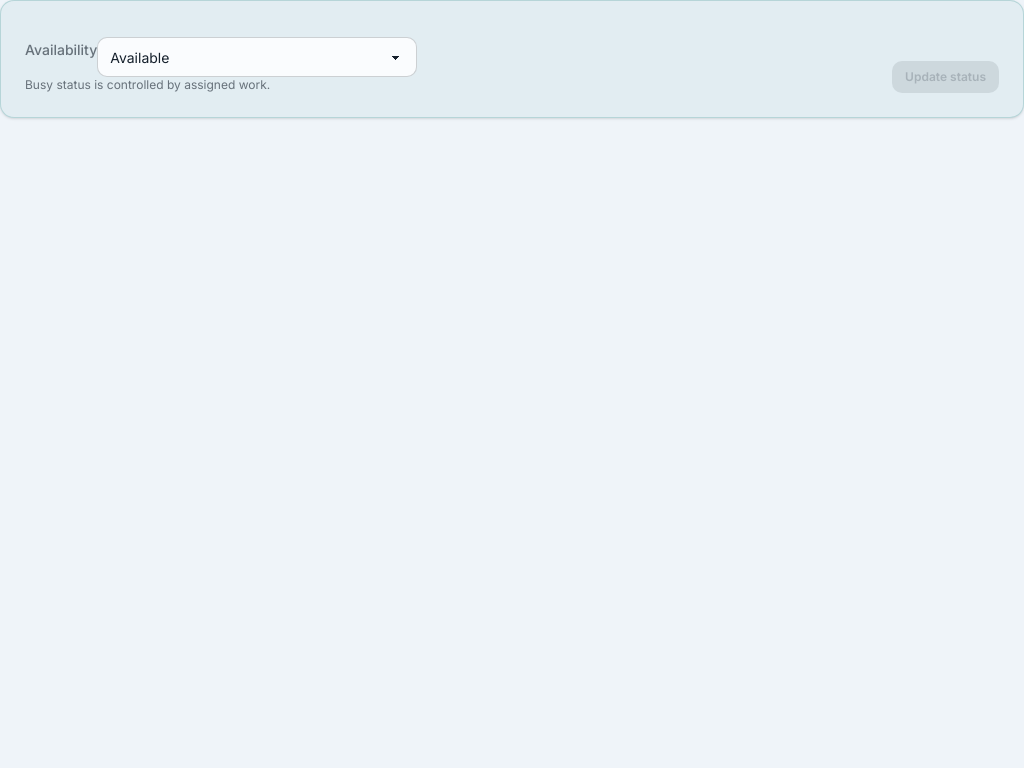
fleet pages › asks before forcing offline when a driver still has active shipments
Later steps or results of the test are not shown.
Select "Offline" in the dropdown labelled "Availability": [257, 57] box [97, 37, 417, 77]
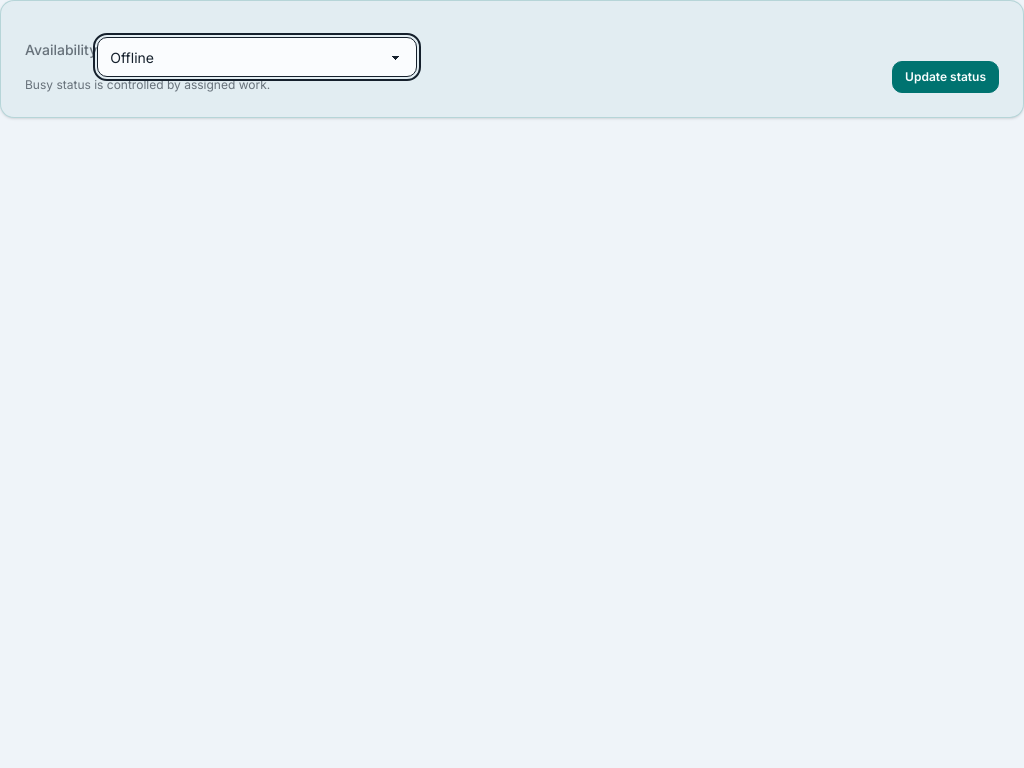
Click the button "Update status": [946, 77] box [892, 61, 999, 93]
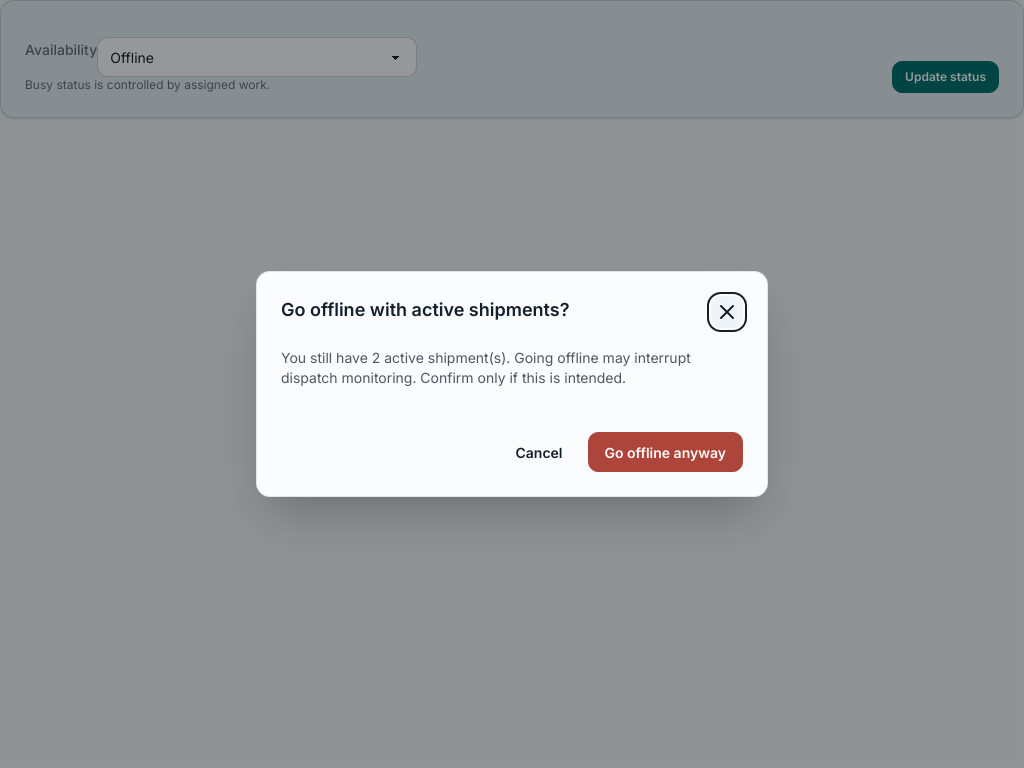
Now the dialog "Go offline with active shipments?" is shown
Now the text "2 active shipment" is shown, box [281, 349, 691, 386]
